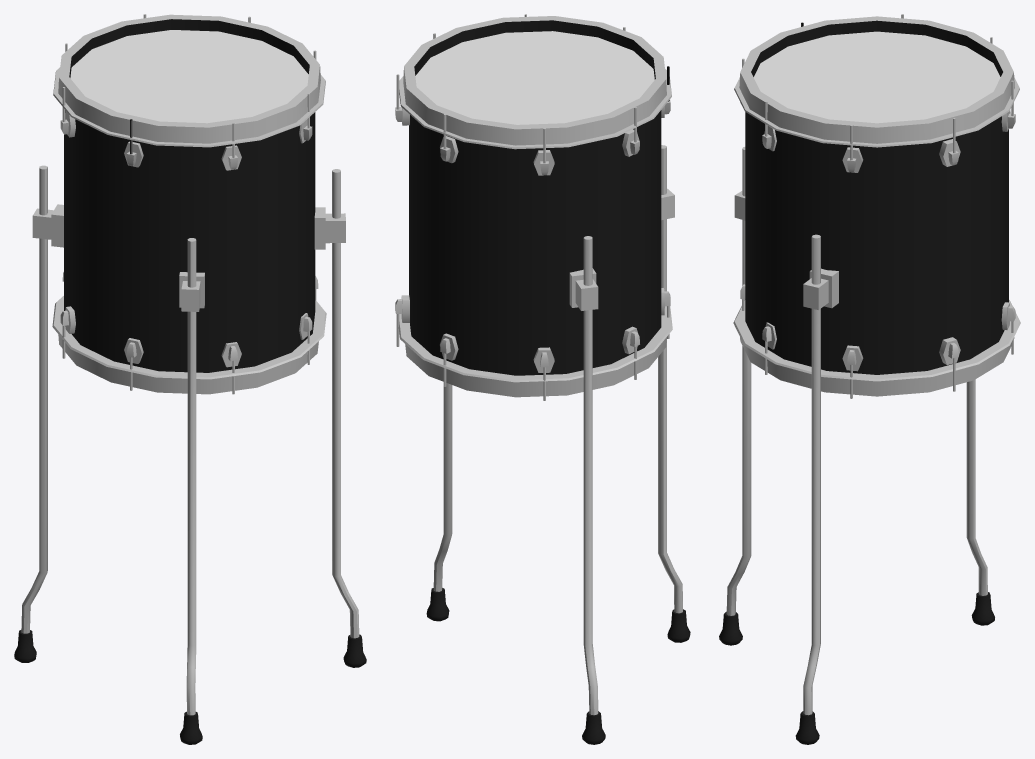
The model's file is SM_Drum_4k_2.fbx.
The picture shows the model from 3 angles, left to right: view 1: azimuth 30°, elevation 25°; view 2: azimuth 150°, elevation 25°; view 3: azimuth 270°, elevation 25°; orthographic projection.
Parts seen in each view (by area): view 1: Drum_4k.002; view 2: Drum_4k.002; view 3: Drum_4k.002.
Boxes of the visible parts, x1,y1,x2,y2 form: Drum_4k.002: (14,14,366,744); Drum_4k.002: (395,14,690,744); Drum_4k.002: (719,14,1020,744).
Bounding box in the file's own units: 31.58 × 69.14 × 31.18.
Materials: 1 (1 with a texture image).
